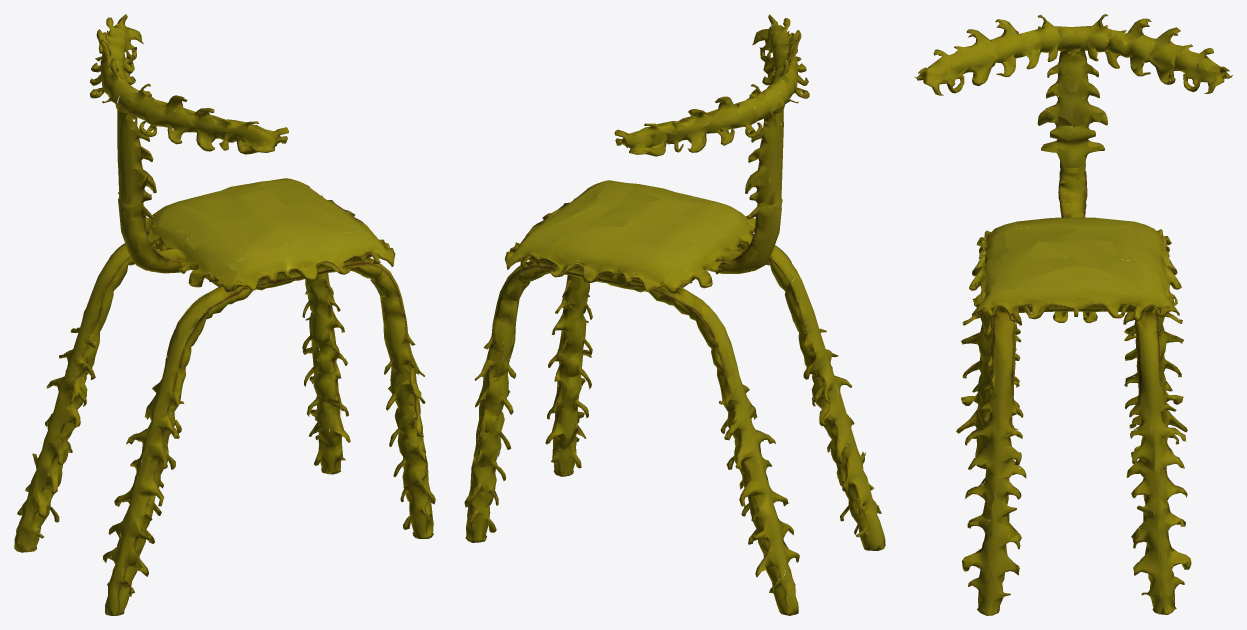
The model's file is 11_1_ee_ds0c0_chair.glb.
The picture shows the model from 3 angles, left to right: view 1: azimuth 30°, elevation 25°; view 2: azimuth 150°, elevation 25°; view 3: azimuth 270°, elevation 25°; orthographic projection. The views are drawn at different scales.
Parts seen in each view (by area): view 1: tripo_material_14387e0a-7357-4d27-a2ba-df18bc2e8c9a; view 2: tripo_material_14387e0a-7357-4d27-a2ba-df18bc2e8c9a; view 3: tripo_material_14387e0a-7357-4d27-a2ba-df18bc2e8c9a.
Boxes of the visible parts, bbox=[...] form: tripo_material_14387e0a-7357-4d27-a2ba-df18bc2e8c9a: bbox=[14, 14, 435, 615]; tripo_material_14387e0a-7357-4d27-a2ba-df18bc2e8c9a: bbox=[464, 14, 885, 615]; tripo_material_14387e0a-7357-4d27-a2ba-df18bc2e8c9a: bbox=[914, 14, 1232, 615].
Size of the model in its own units: 0.5654 by 0.8105 by 0.487.
1 material, 1 textured.
